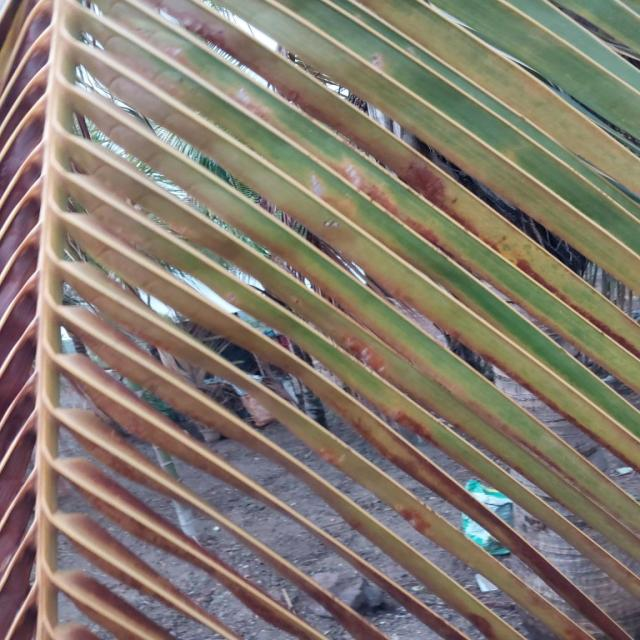gray leaf spot: (0, 2, 478, 640)
